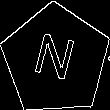N_S: (31, 30, 81, 89)
